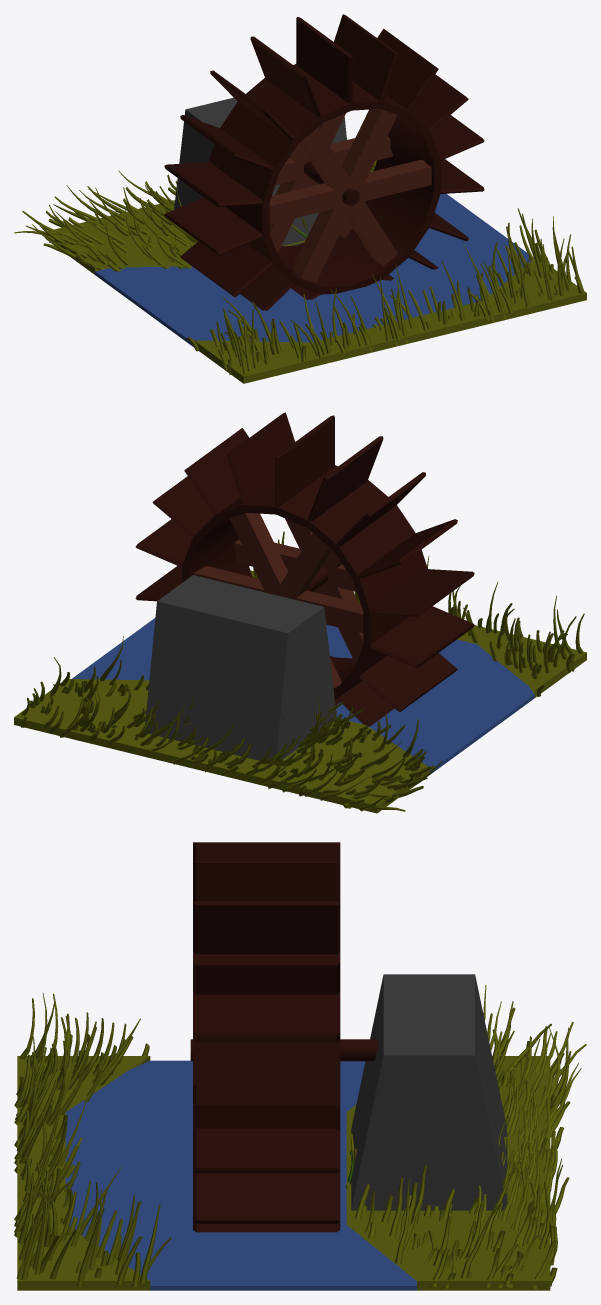
File: SM_Tile Watermill.fbx
3 renders of one model, top to bottom at view 1: azimuth 30°, elevation 25°; view 2: azimuth 150°, elevation 25°; view 3: azimuth 270°, elevation 25°, orthographic. The views are drawn at different scales.
Parts seen in each view (by area): view 1: Moulin; view 2: Moulin; view 3: Moulin.
Part boxes in pixels (left/top/right/bottom): Moulin: left=14, top=14, right=586, bottom=383; Moulin: left=14, top=412, right=586, bottom=813; Moulin: left=14, top=842, right=586, bottom=1290.
Size of the model in its own units: 44.41 by 26.17 by 42.32.
